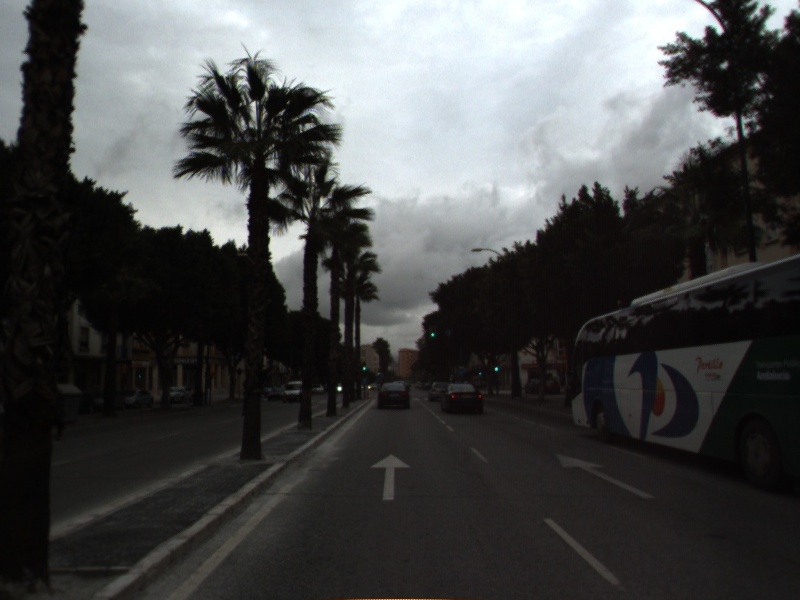STRAIGHT: (553, 451, 658, 501), (368, 452, 412, 502)
